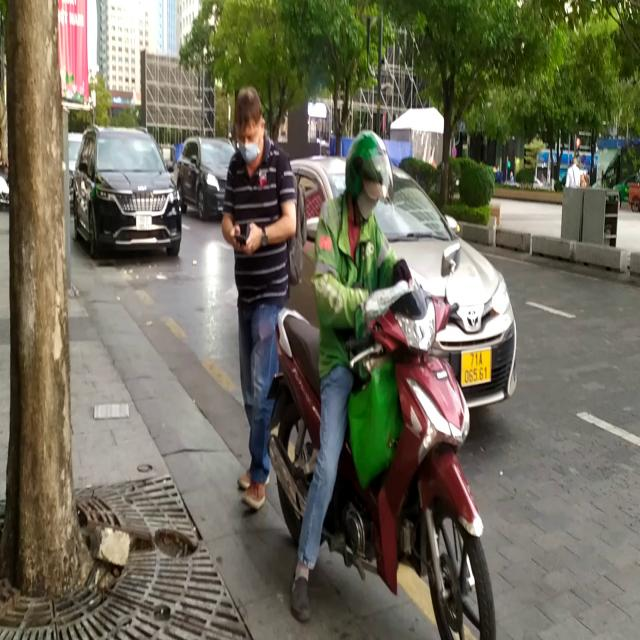bien_vang: (458, 344, 495, 394)
